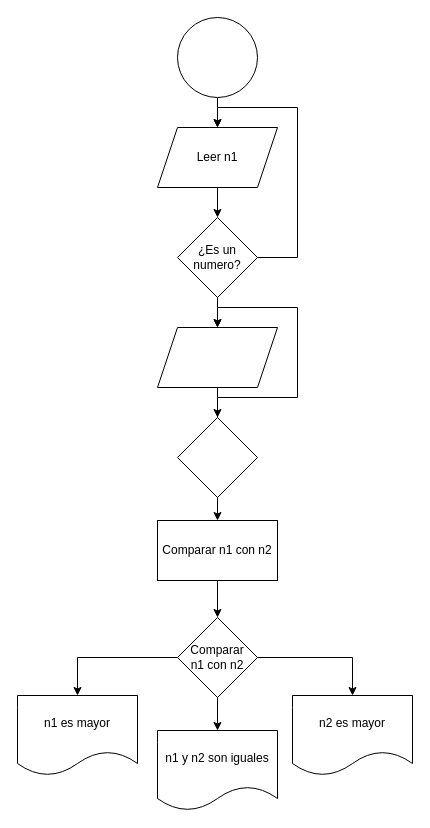
The diagram is 430 pixels wide and 828 high, and some of its shapes have lost their labels. The centre of each missing label's shape, as x and y in pixels:
Inicio: the point at 217,57
Leer n2: the point at 217,357
¿Es un número?: the point at 217,457
